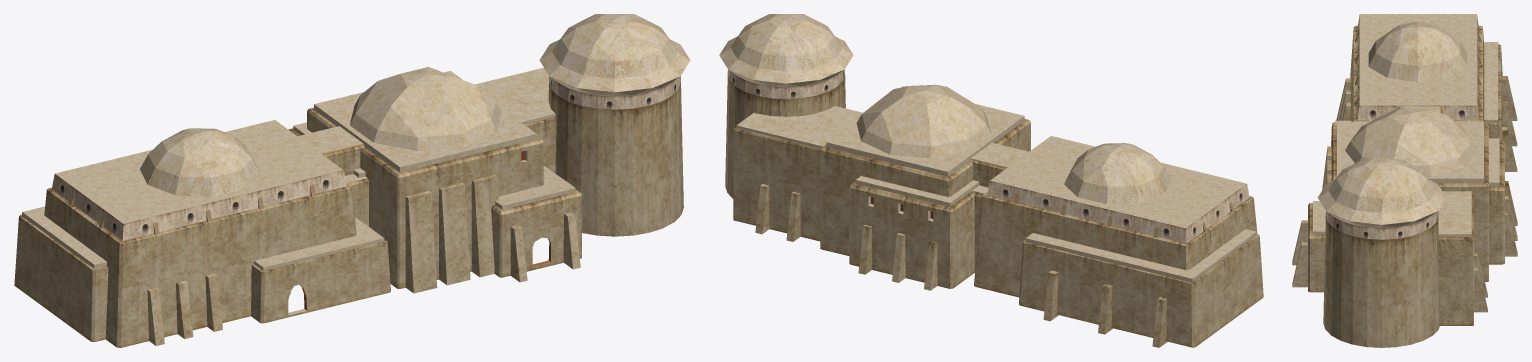
Rendered from thm_tato_block_bldg_64x32_s01_r0_exterior_mesh_l1.fbx.
The picture shows the model from 3 angles, left to right: view 1: azimuth 30°, elevation 25°; view 2: azimuth 150°, elevation 25°; view 3: azimuth 270°, elevation 25°; orthographic projection. The views are drawn at different scales.
Parts seen in each view (by area): view 1: mesh_node; view 2: mesh_node; view 3: mesh_node.
Boxes of the visible parts, x1=… form: mesh_node: x1=14, y1=14, x2=690, y2=347; mesh_node: x1=719, y1=14, x2=1263, y2=347; mesh_node: x1=1292, y1=14, x2=1517, y2=347.
Size of the model in its own units: 68.1 by 20.84 by 26.2.
